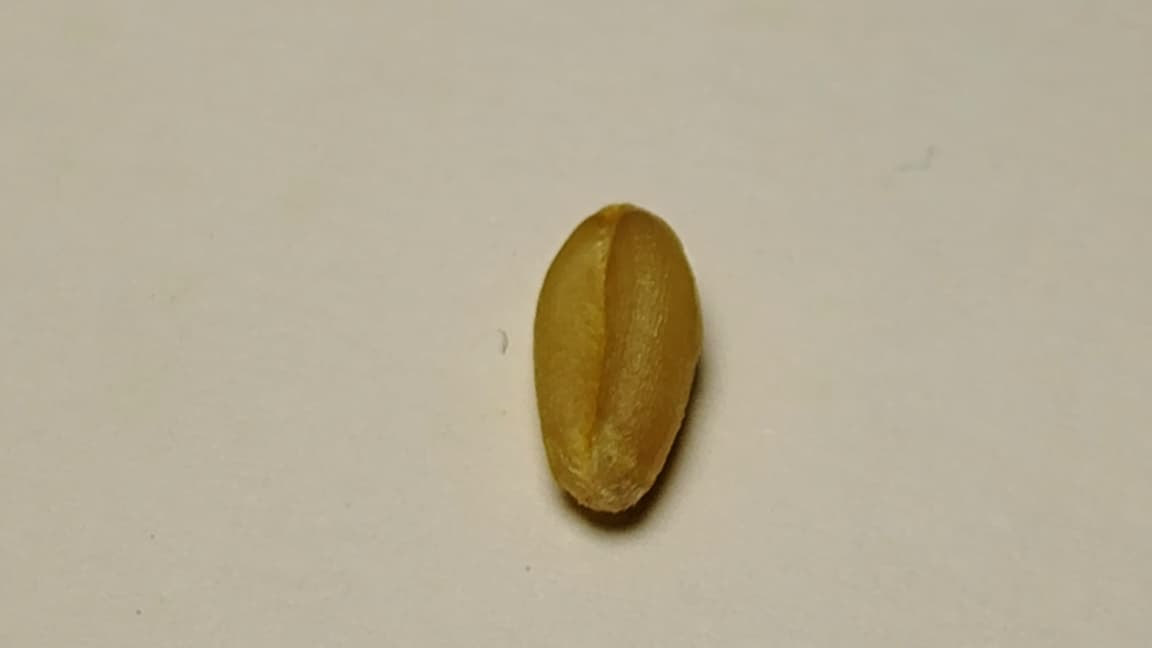healthy: (532, 202, 703, 511)
